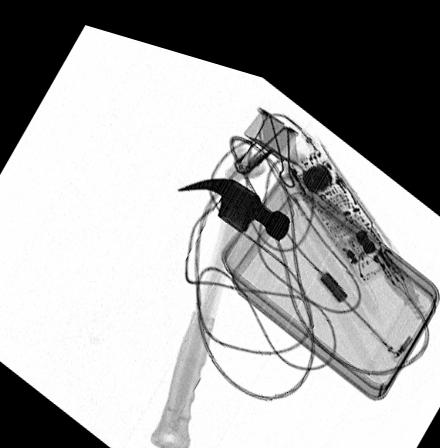Hammer: (149, 162, 289, 444)
